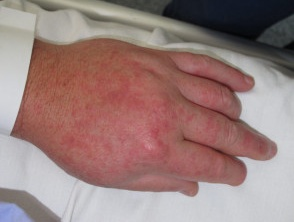SJS-TEN: (45, 42, 227, 222)
